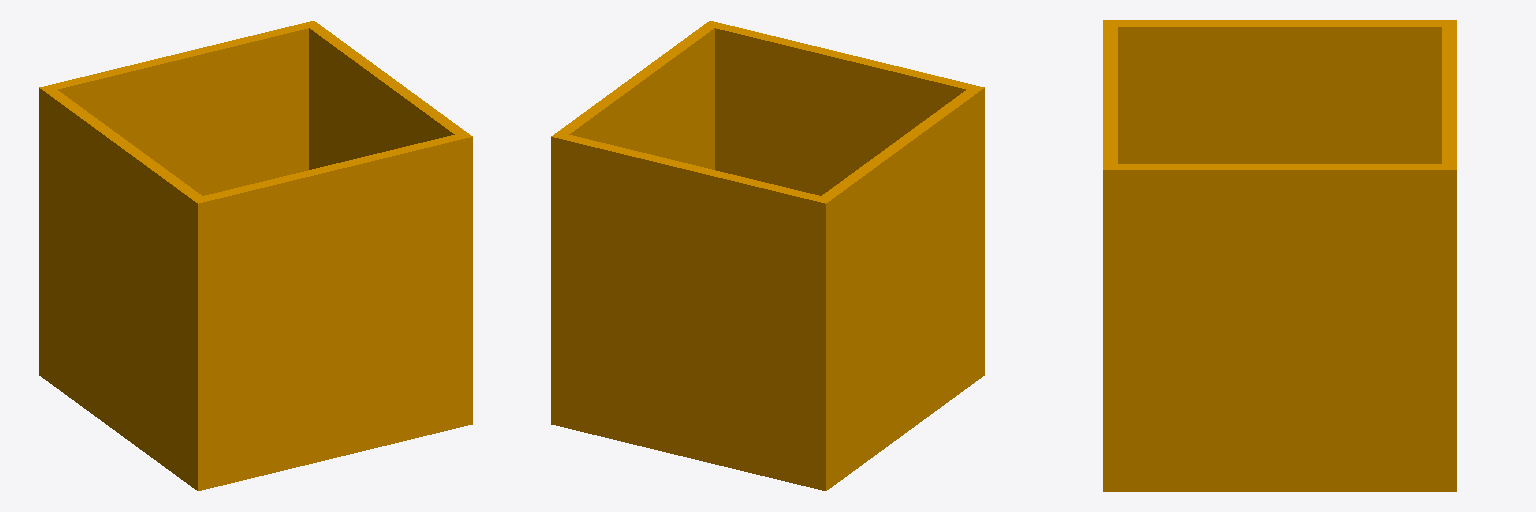
The robot description file, URDF, robot "rfunnel.off":
<?xml version="1.0"?>
<robot name="rfunnel.off">
	<link name="rfunnel.off">
		<inertial>
			<!--origin xyz="0 0 0" rpy="0 0 0" /-->
			<mass value="0.5" />
			<!--inertia ixx="0.000360" ixy="0" ixz="0" iyy="0.0000615" iyz="0" izz="0.00036" /-->
		</inertial>
    		<visual>
	      		<!--origin rpy="0 0 0" xyz="0 0 0"/-->
      			<geometry>
        			<mesh filename="rfunnel.off.obj"/>
      			</geometry>
         	</visual>
    		<collision>
      			<!--origin rpy="0 0 0" xyz="0 0 0"/-->
      			<geometry>
        			<mesh filename="rfunnel.off.obj"/>
      			</geometry>
    		</collision>
	</link>
</robot>

--- What the picture shows (computed from the rendered views, not written in the file) ---
3 views of the same robot in one strip: view 1: azimuth 30°, elevation 25°; view 2: azimuth 150°, elevation 25°; view 3: azimuth 270°, elevation 25° (orthographic).
Model rfunnel.off with 1 links and 0 joints (none), rooted at rfunnel.off, posed every joint at zero.
Links seen in each view (by area): view 1: rfunnel.off; view 2: rfunnel.off; view 3: rfunnel.off.
Link boxes in pixels (box(x1,y1,x2,y2)): rfunnel.off: box(39, 21, 472, 490); rfunnel.off: box(551, 21, 984, 490); rfunnel.off: box(1103, 20, 1456, 491).
Size in the robot's own frame: 0.12 by 0.12 by 0.12 metres.
Meshes: 1 distinct files referenced, 1 mesh visuals loaded (1 OBJ).